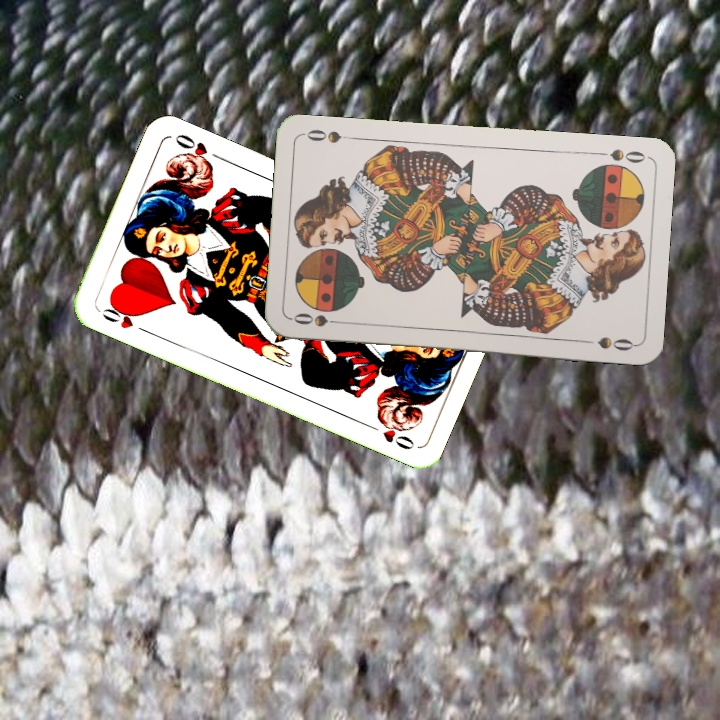HO: (98, 299, 151, 336)
SO: (289, 308, 348, 329), (590, 145, 648, 166)
